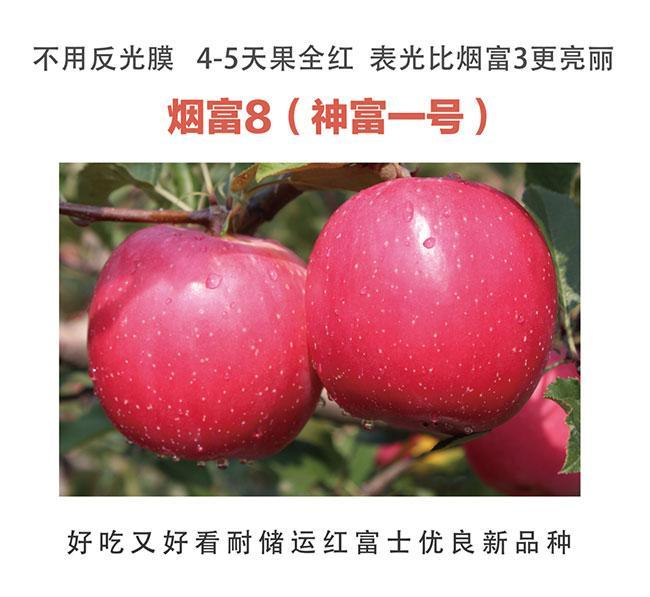apple: (305, 175, 556, 428), (90, 227, 312, 460)
